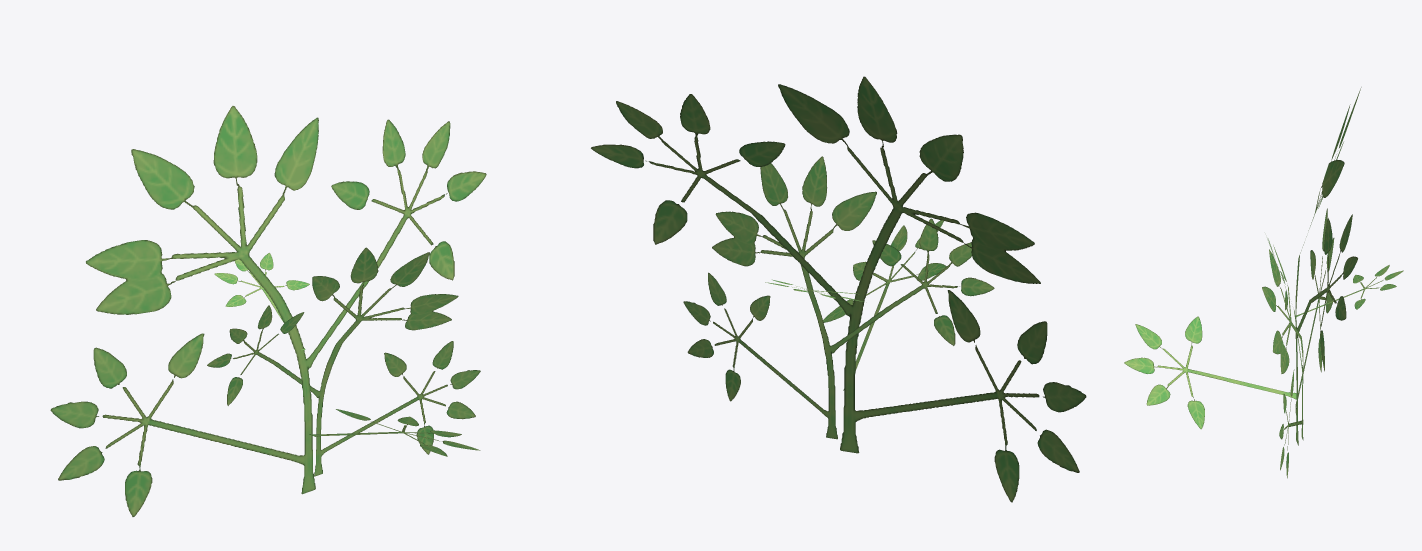
Rendered from LeafSetC_12.fbx.
The picture shows the model from 3 angles, left to right: view 1: azimuth 30°, elevation 25°; view 2: azimuth 150°, elevation 25°; view 3: azimuth 270°, elevation 25°; orthographic projection. The views are drawn at different scales.
Visible parts, largest first — view 1: LeafSetC_12; view 2: LeafSetC_12; view 3: LeafSetC_12.
Part boxes in pixels (<box>): LeafSetC_12: <box>50,106,486,516</box>; LeafSetC_12: <box>591,76,1086,502</box>; LeafSetC_12: <box>1124,87,1403,478</box>.
Size of the model in its own units: 1.11 by 0.8919 by 0.7065.
